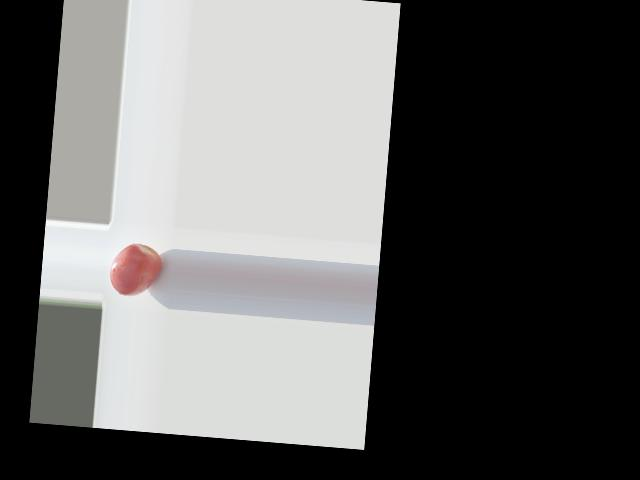tomato: (108, 241, 162, 298)
